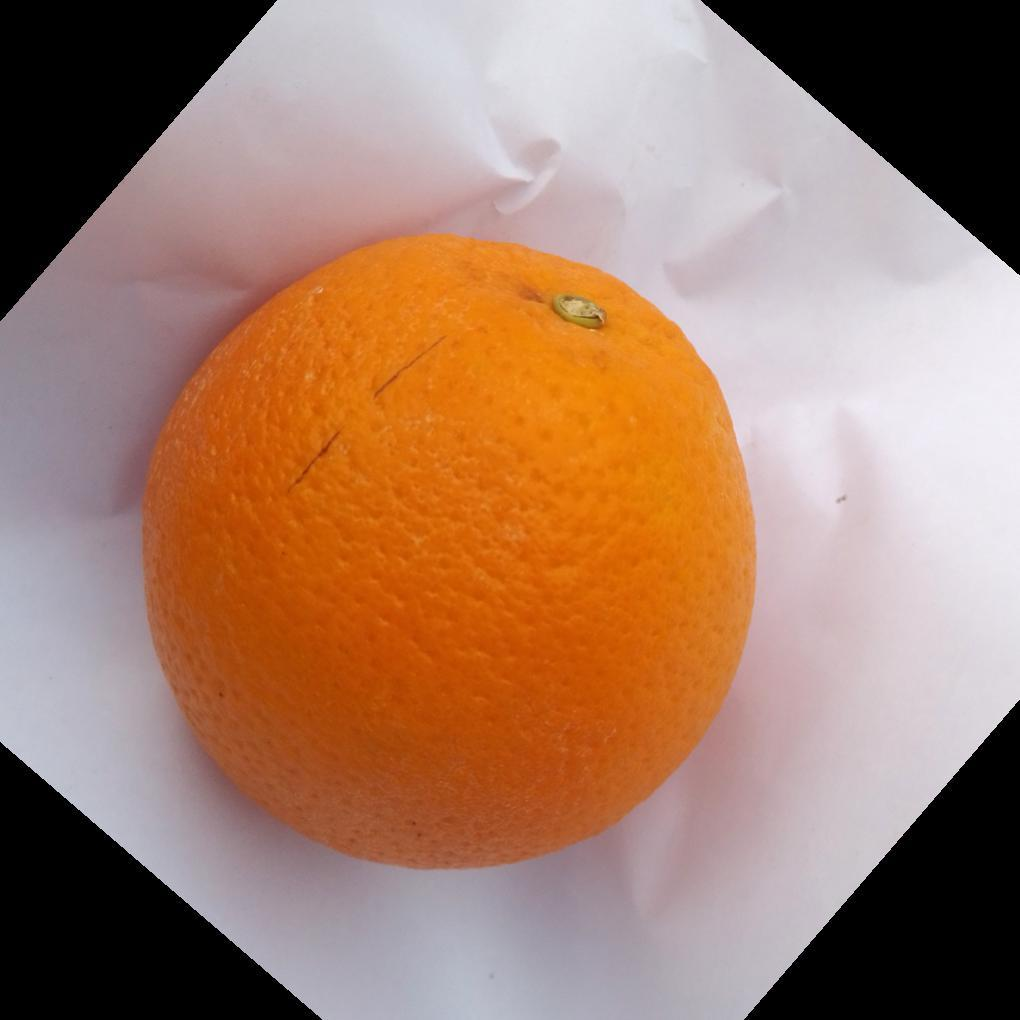FreshGuava: (137, 233, 762, 878)
